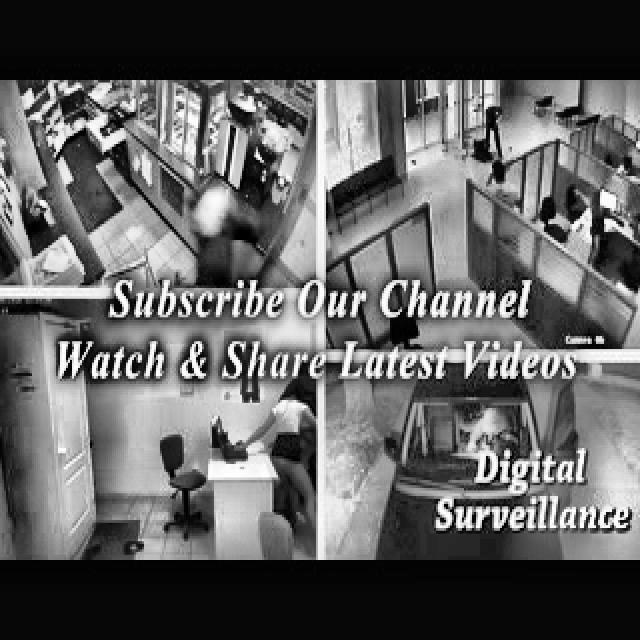burglary: (182, 172, 272, 288)
